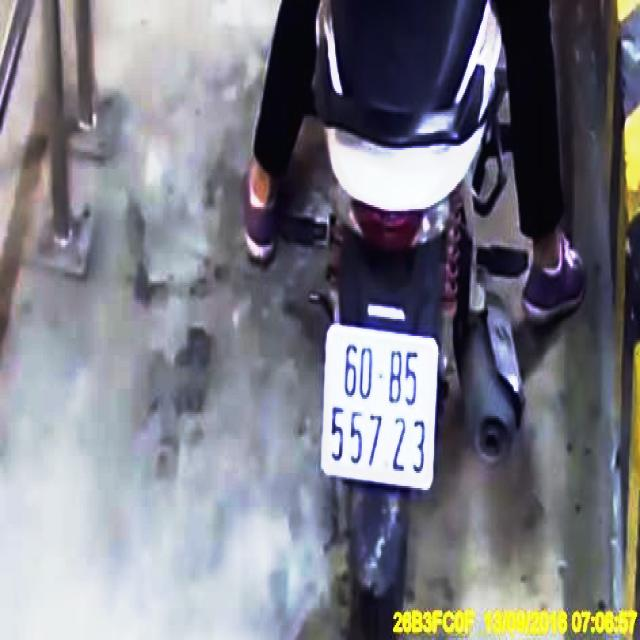license_plate: (322, 331, 437, 490)
